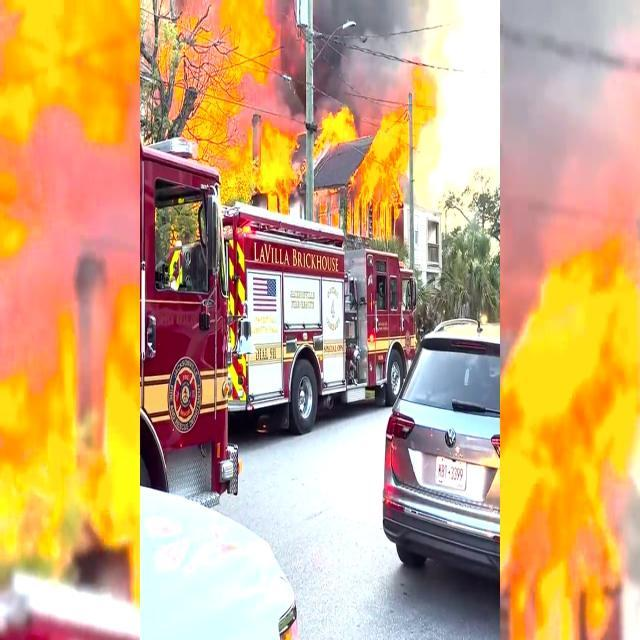Fire: (205, 24, 292, 201), (316, 108, 414, 212)
Smoke: (304, 4, 428, 101)
